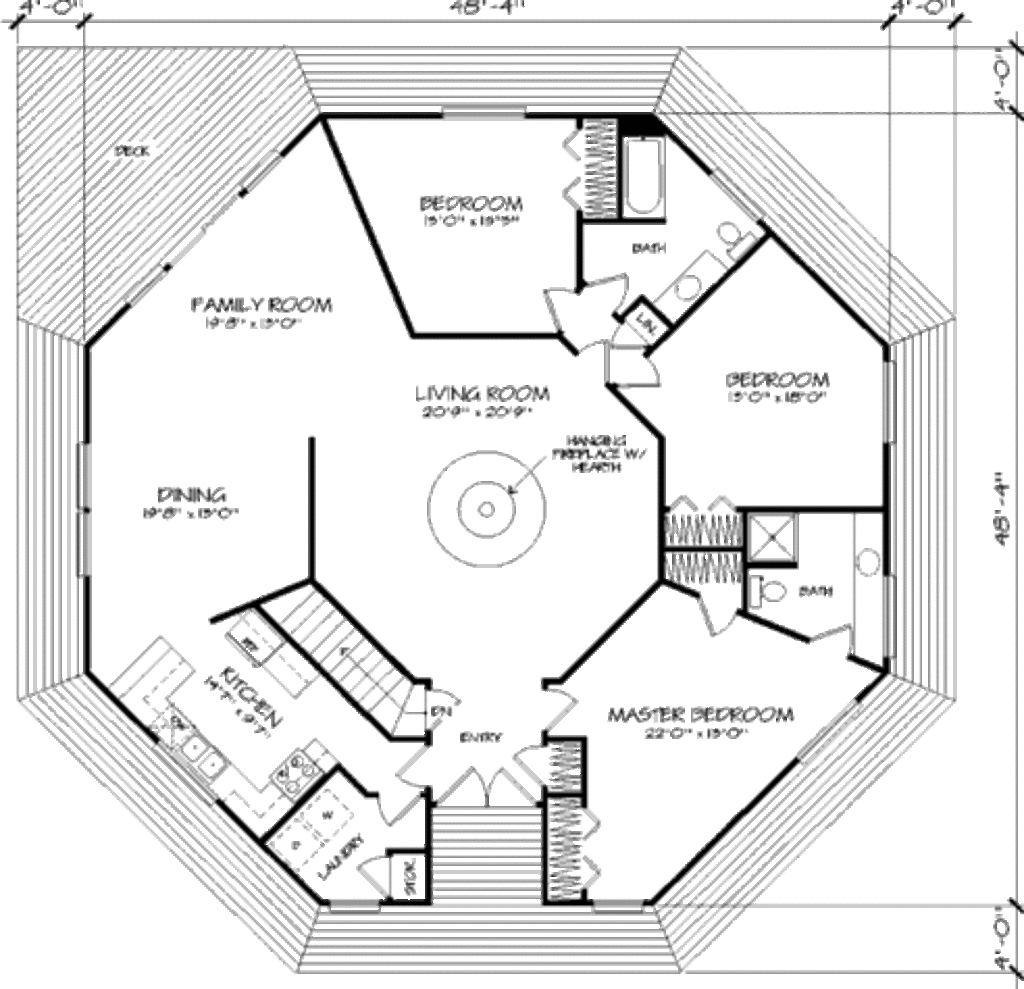door: (436, 767, 543, 811), (372, 789, 421, 827), (615, 357, 662, 396), (588, 269, 632, 310), (359, 853, 396, 899), (699, 593, 739, 635), (541, 689, 577, 735), (541, 283, 574, 333), (395, 746, 431, 789), (813, 622, 852, 655)
large_sink: (743, 570, 788, 616), (717, 217, 760, 261)
small_sink: (658, 263, 723, 311)
stairs: (263, 576, 408, 734)
tub: (622, 132, 669, 216)
windows: (74, 441, 95, 575), (437, 102, 537, 123)
